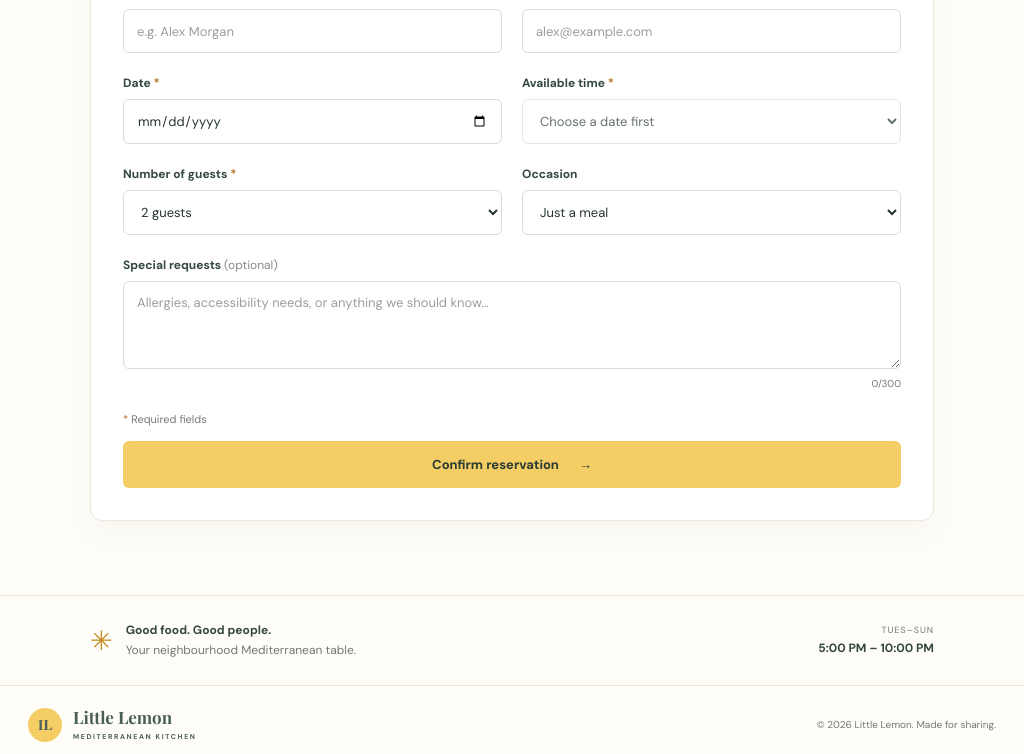
it: Little Lemon booking form › shows validation errors when the form is submitted empty
(page scrolled)
Click the button "Confirm reservation →" at point(512, 464), box top-left (123, 441), bottom-right (901, 488)
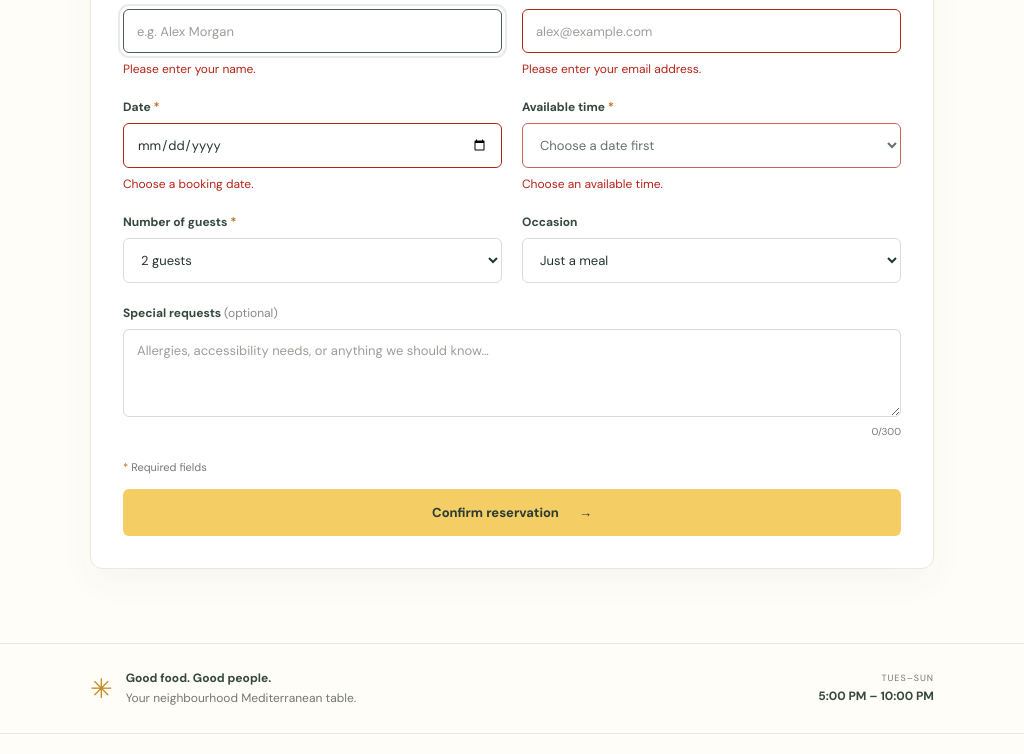
Expected: the text "Please enter your name." is shown, top-left (123, 61), bottom-right (256, 77)
Expected: the text "Please enter your email address." is shown, top-left (522, 61), bottom-right (701, 77)
